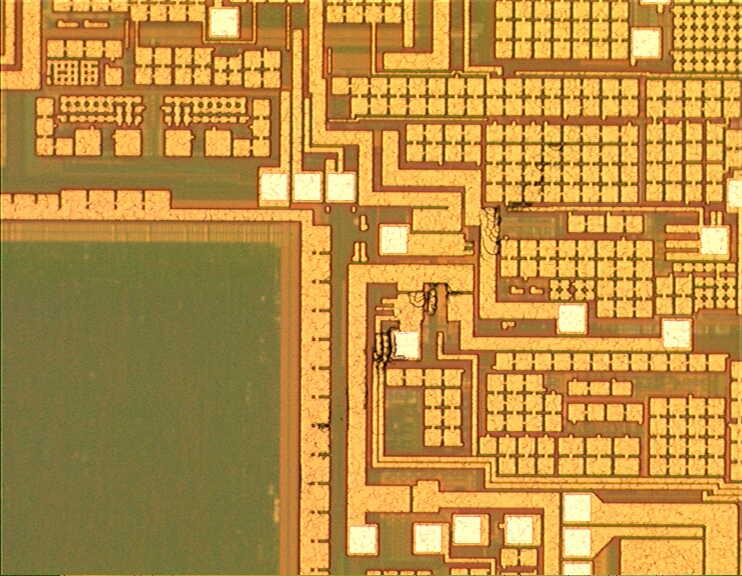SCRATCH: (361, 134, 578, 375)
